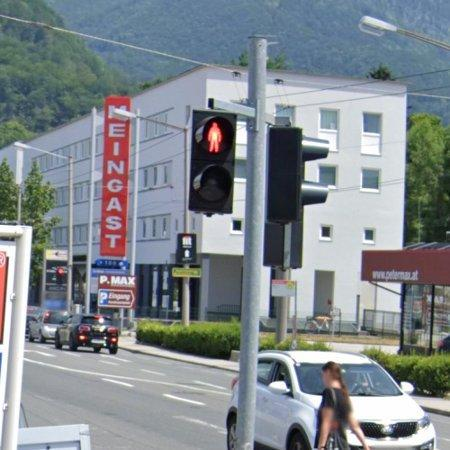traffic lights: (268, 126, 330, 224), (189, 112, 240, 212)
